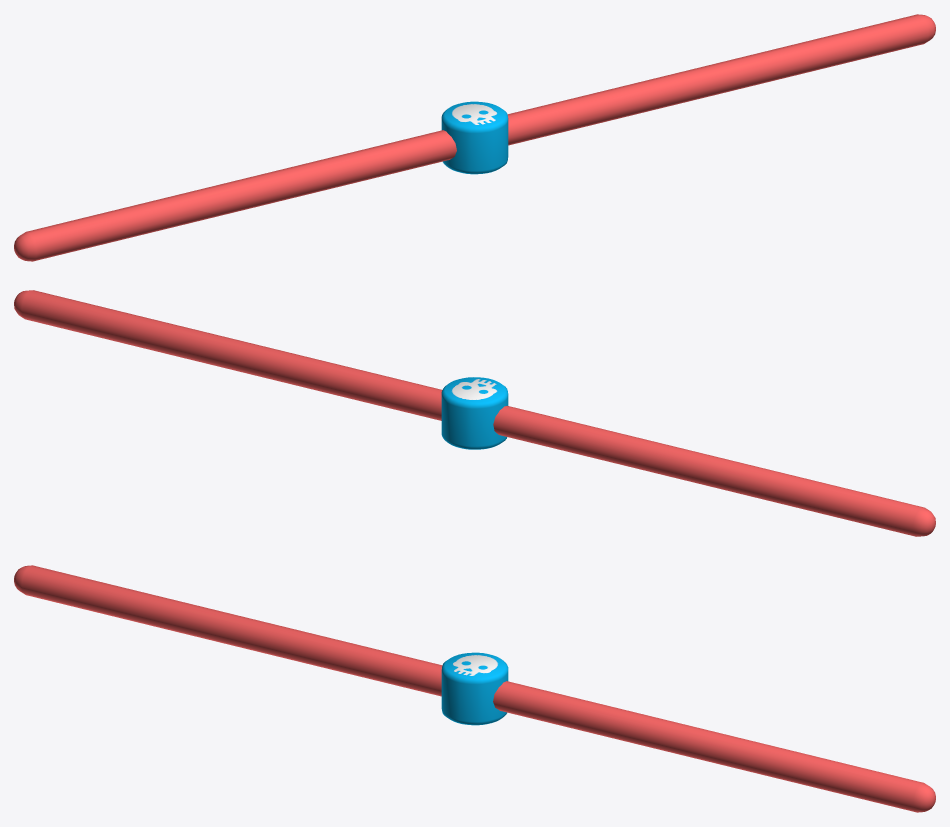
File: stick_2_3.FBX
3 views of the same model, one above another, from view 1: azimuth 30°, elevation 25°; view 2: azimuth 150°, elevation 25°; view 3: azimuth 330°, elevation 25° (orthographic).
Parts seen in each view (by area): view 1: stick_2_3; view 2: stick_2_3; view 3: stick_2_3.
Boxes of the visible parts, bbox=[...] form: stick_2_3: bbox=[14, 14, 935, 261]; stick_2_3: bbox=[14, 290, 935, 536]; stick_2_3: bbox=[14, 565, 935, 812].
Bounding box in the file's own units: 23.63 × 1.16 × 1.49.
Materials: 1 (1 with a texture image).
